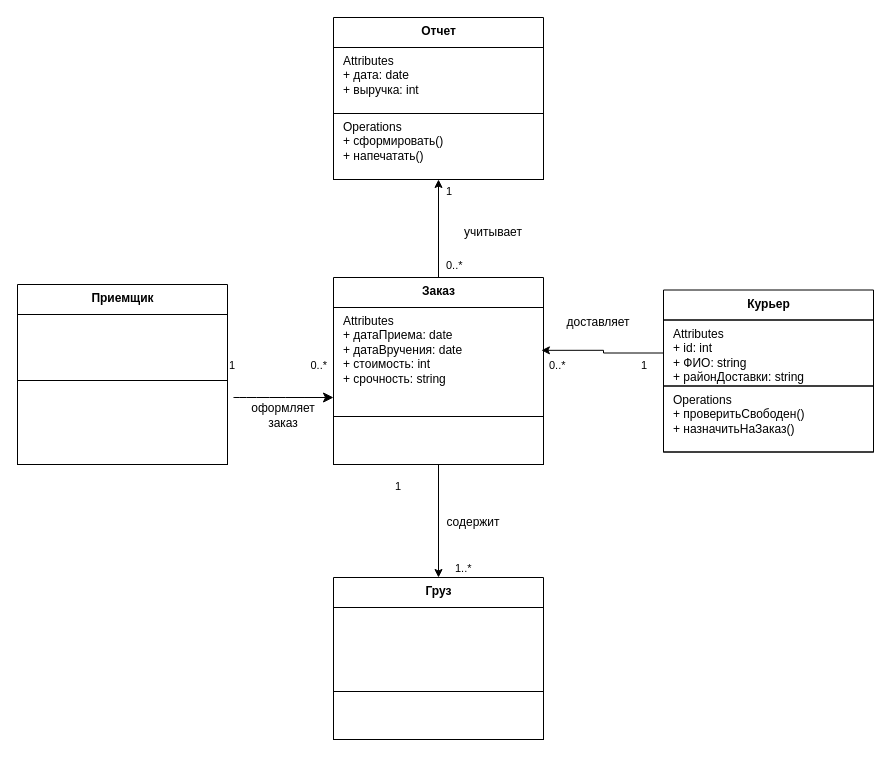
Some shapes in this 891 by 757 pixel diagram are drawn without their labels. The centre of each missing label's shape, as x and y in pixels:
"Attributes + id: int + ФИО: string" goes at point 122,347.
"Attributes + типГруза: string + вес: double + габариты: string" goes at point 438,649.
"Operations" goes at point 438,715.
"Operations + зафиксироватьВручение()" goes at point 438,440.
"Operations + получитьЗаказы() + оформитьЗаказ() + назначитьКурьера()" goes at point 122,422.
